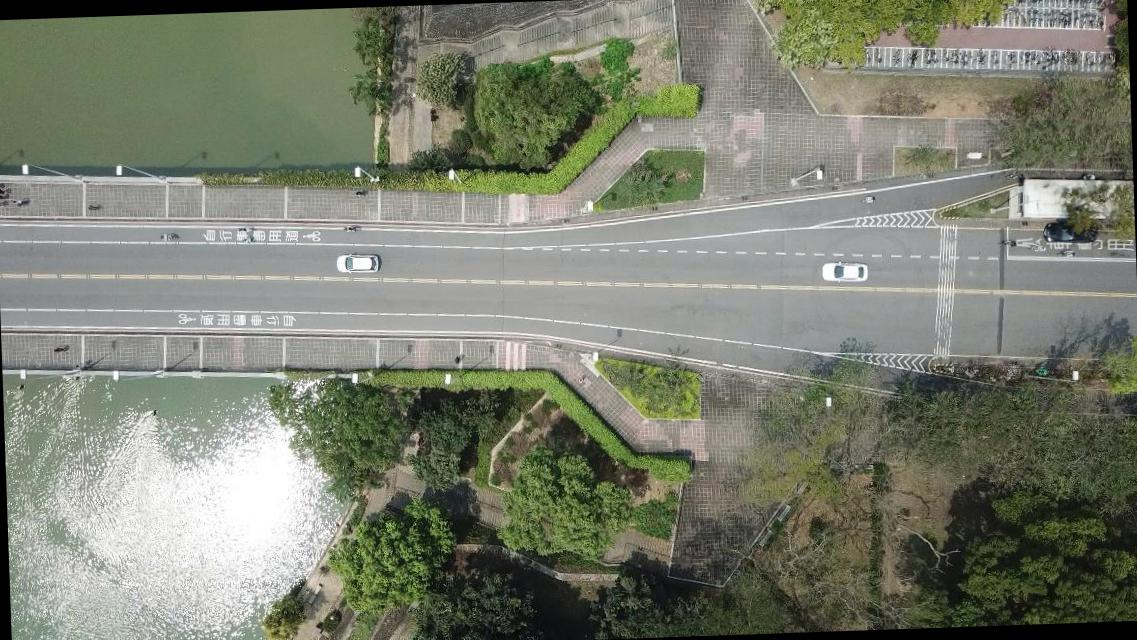vehicle: (1042, 220, 1099, 246), (821, 260, 868, 284), (336, 253, 380, 275)
